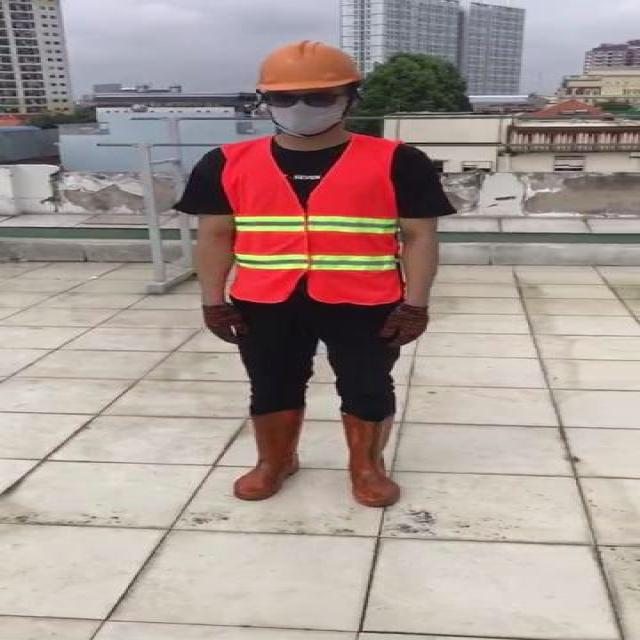boots: (233, 410, 302, 499), (342, 411, 404, 508)
face_mask: (258, 88, 348, 136)
glasses: (255, 86, 342, 112)
hand_glove: (201, 303, 252, 344), (381, 306, 428, 349)
head_helmet: (254, 40, 366, 94)
person: (182, 35, 454, 517)
vest: (226, 135, 402, 304)
